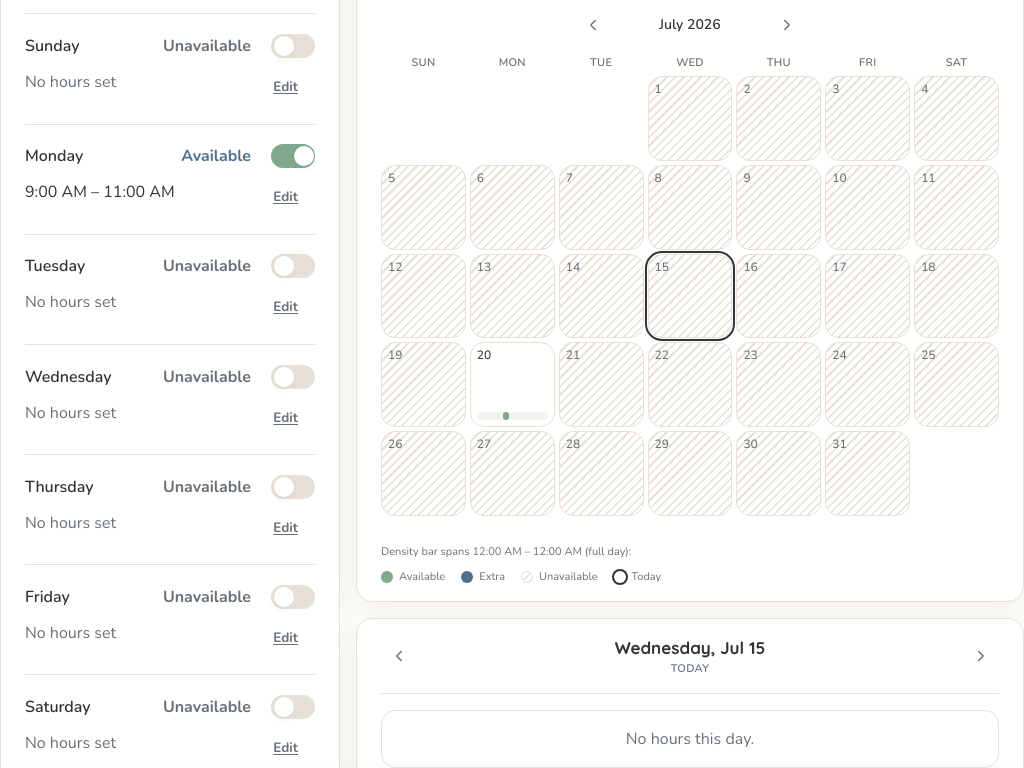
it: GuideAvailabilityPage — mobile day-sheet flow (tap → sheet → editor → back) › Cancel in the editor returns to the day sheet instead of closing everything
The image size is (1024, 768).
(page scrolled)
# Tap a day → the detail sheet (not the editor).
Click the cell with test id "calendar-day-2026-07-22": (690, 385) [648,342,732,427]
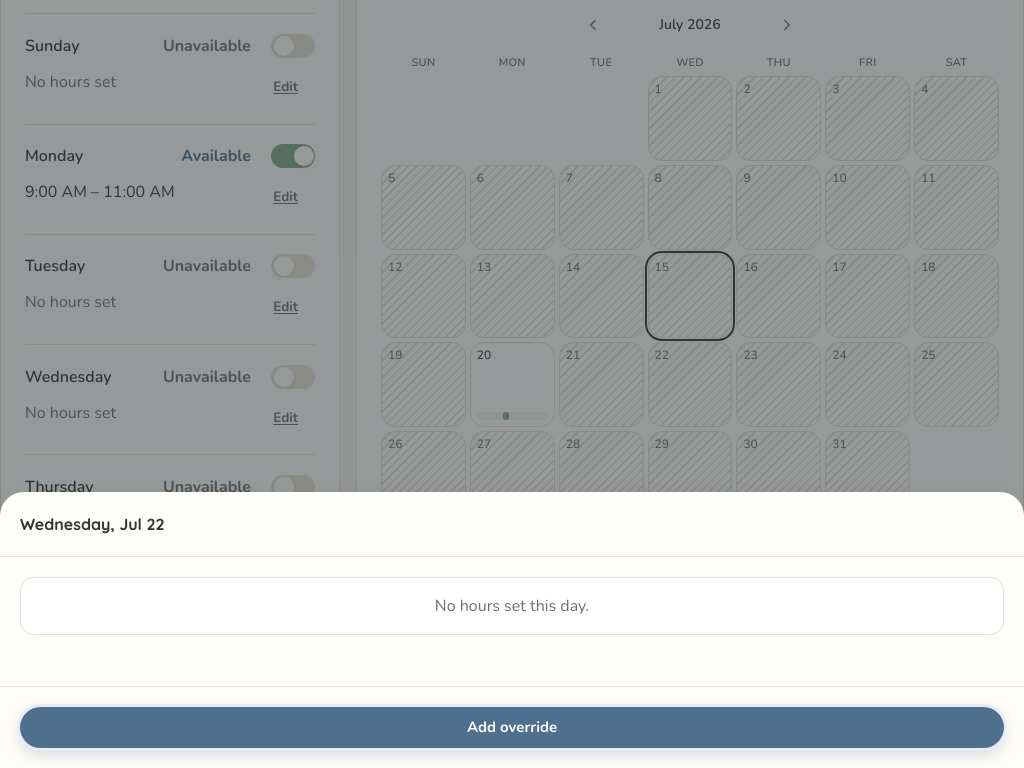
Now the dialog named "Availability for 2026-07-22" is shown, box [0,492,1023,767]
# Add override → the editor opens (the sheet is swapped out).
Click the button "Add override": (512, 728) [20,707,1004,748]
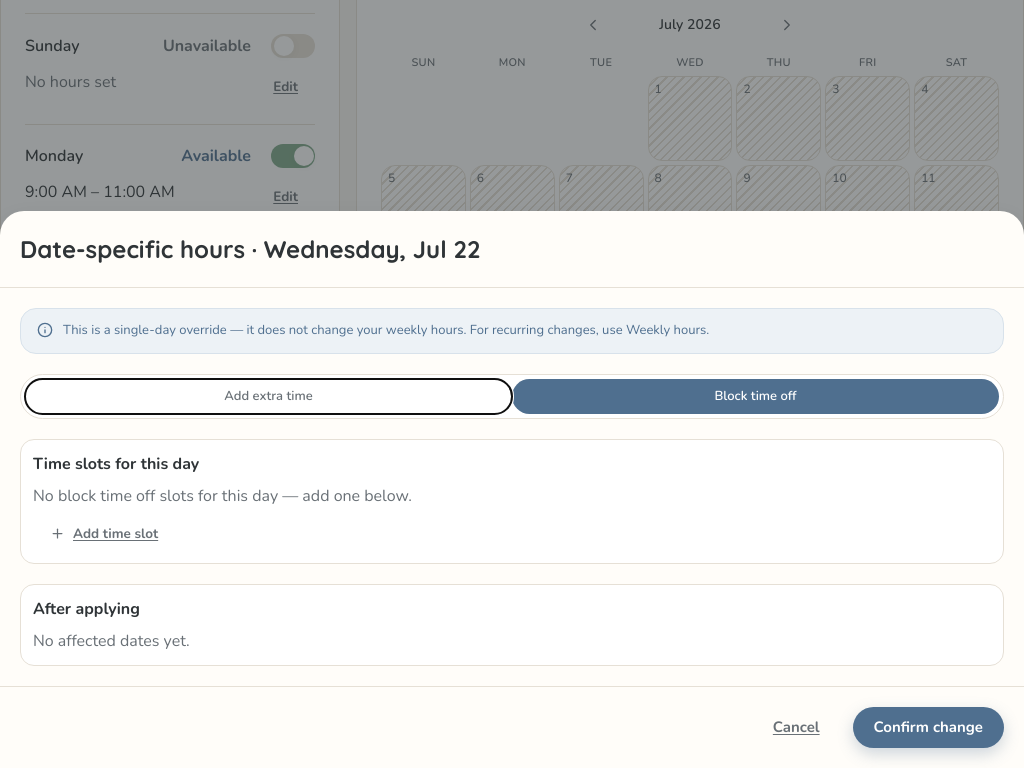
Now the dialog "Date-specific hours" is shown
# Cancel → back to the day sheet, not all the way out to the calendar.
Click the button "Cancel": (796, 728) [752,707,841,748]
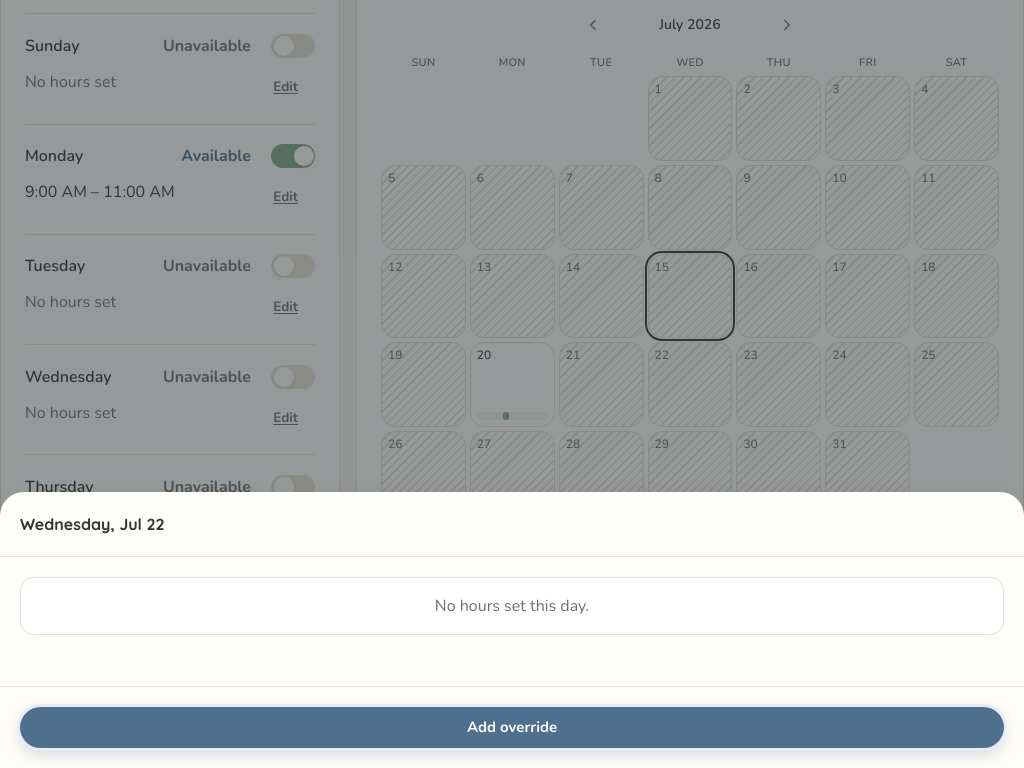
Now the dialog named "Availability for 2026-07-22" is shown, box [0,492,1023,767]
